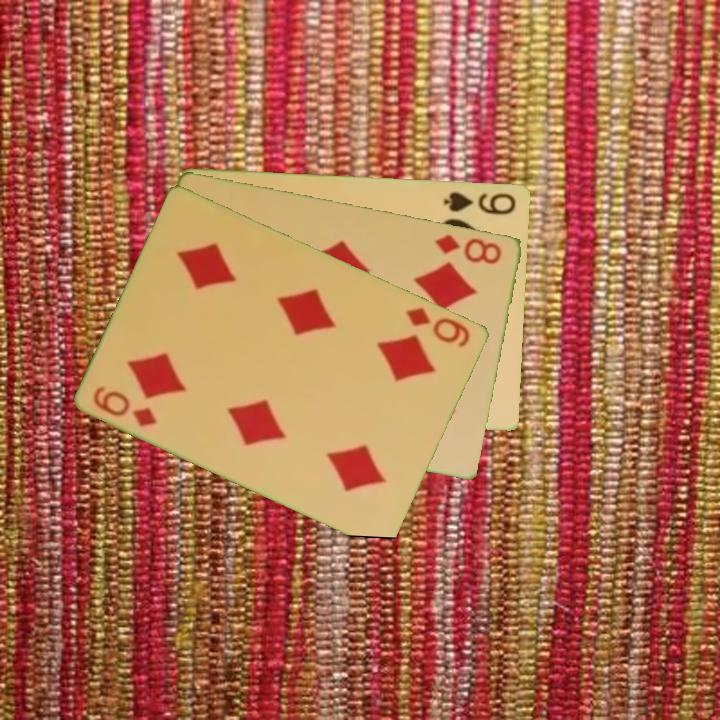6d: (403, 303, 474, 351), (90, 382, 161, 429)
8d: (432, 230, 505, 267)
9s: (440, 188, 519, 217)
